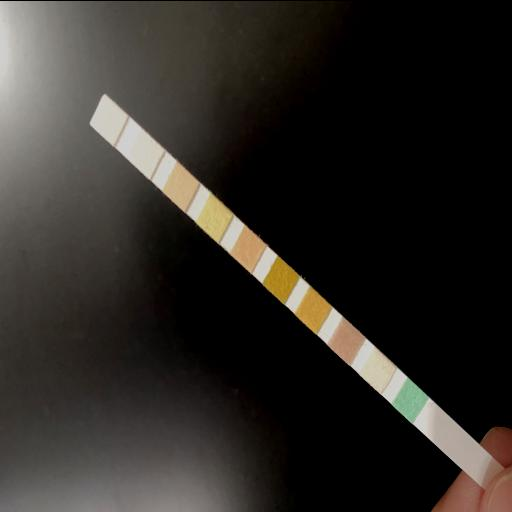Bilirubin: (368, 356, 386, 382)
Blood: (272, 266, 290, 292)
Glucose: (402, 387, 420, 413)
Ketone: (338, 328, 356, 354)
Leukocytes: (100, 105, 118, 131)
Nitrite: (136, 140, 154, 166)
Protein: (206, 204, 224, 230)
SpGravity: (304, 296, 322, 322)
Urobilinogen: (172, 173, 190, 199)
pH: (239, 235, 257, 261)
strip: (89, 91, 498, 488)
